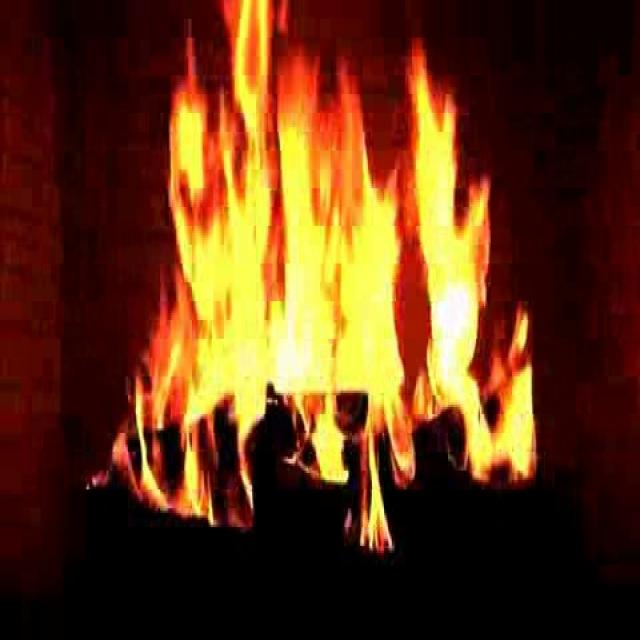Fire: (91, 0, 538, 526)
